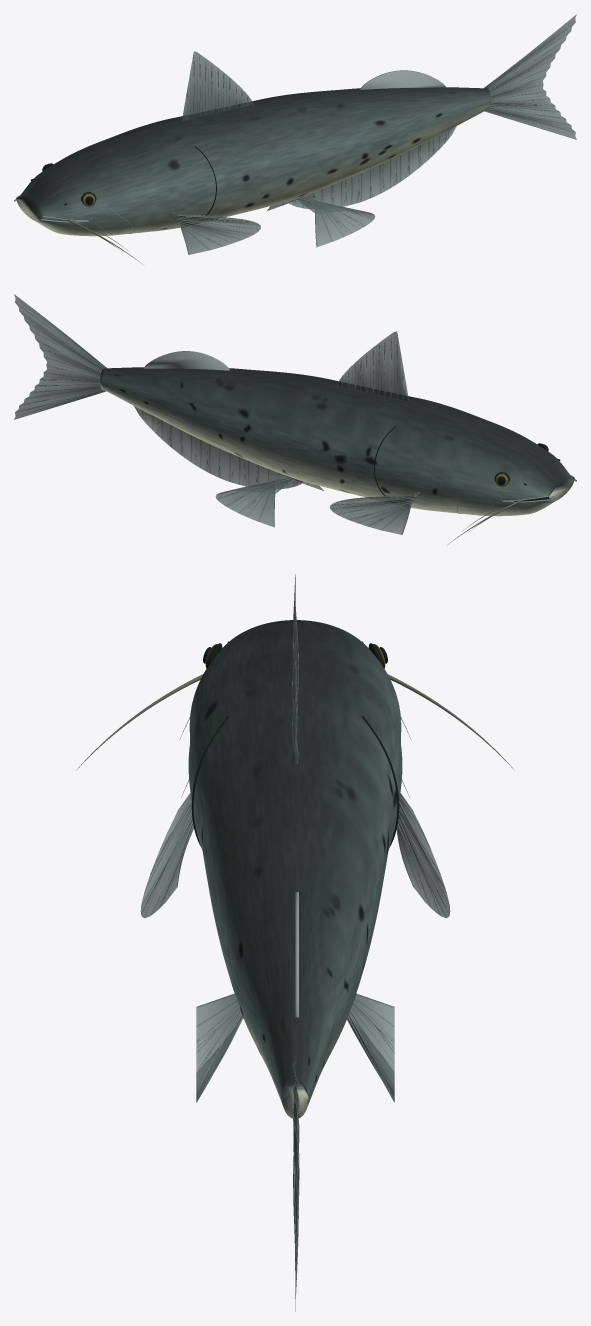
Rendered from channel-catfish.glb.
3 renders of one model, top to bottom at view 1: azimuth 30°, elevation 25°; view 2: azimuth 150°, elevation 25°; view 3: azimuth 270°, elevation 25°, orthographic. The views are drawn at different scales.
Visible parts, largest first — view 1: channel-catfish specimen; view 2: channel-catfish specimen; view 3: channel-catfish specimen.
Boxes of the visible parts, bbox=[...] form: channel-catfish specimen: bbox=[14, 14, 576, 264]; channel-catfish specimen: bbox=[14, 294, 576, 544]; channel-catfish specimen: bbox=[76, 574, 514, 1311].
Size of the model in its own units: 2.43 by 0.8516 by 0.8392.
Materials: 14 (5 with a texture image).
